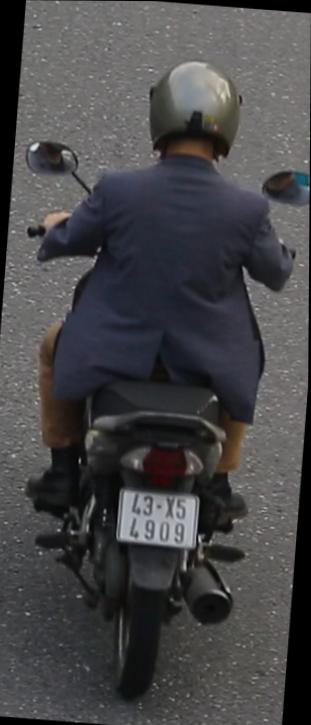LP: (108, 476, 209, 561)
helmet: (139, 55, 248, 159)
